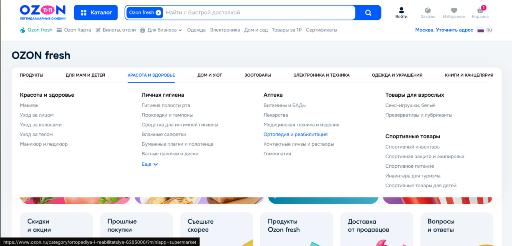ozon: (1, 0, 510, 246)
